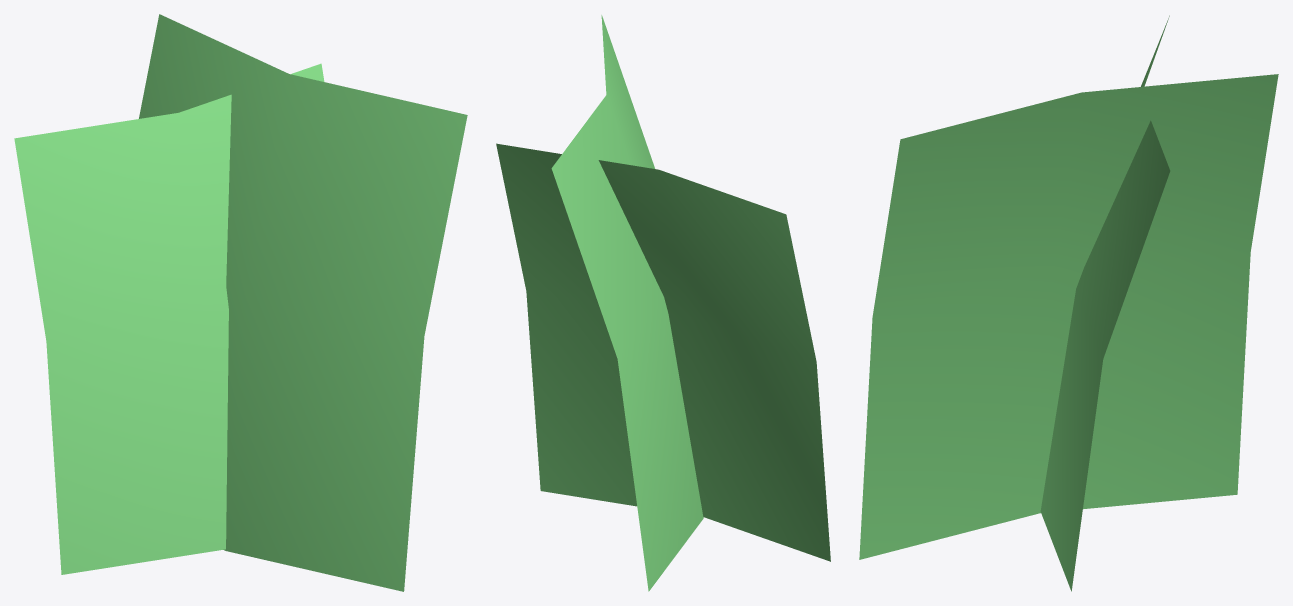
File: GrassPlanes_a_TwoS_03.fbx
The picture shows the model from 3 angles, left to right: view 1: azimuth 30°, elevation 25°; view 2: azimuth 150°, elevation 25°; view 3: azimuth 270°, elevation 25°; orthographic projection. The views are drawn at different scales.
Visible parts, largest first — view 1: GrassPlanes_a_TwoS_03; view 2: GrassPlanes_a_TwoS_03; view 3: GrassPlanes_a_TwoS_03.
Boxes of the visible parts, left/top/right/bottom form: GrassPlanes_a_TwoS_03: left=14, top=14, right=467, bottom=591; GrassPlanes_a_TwoS_03: left=496, top=15, right=830, bottom=591; GrassPlanes_a_TwoS_03: left=859, top=15, right=1278, bottom=591.
Bounding box in the file's own units: 42.98 × 56 × 45.94.
